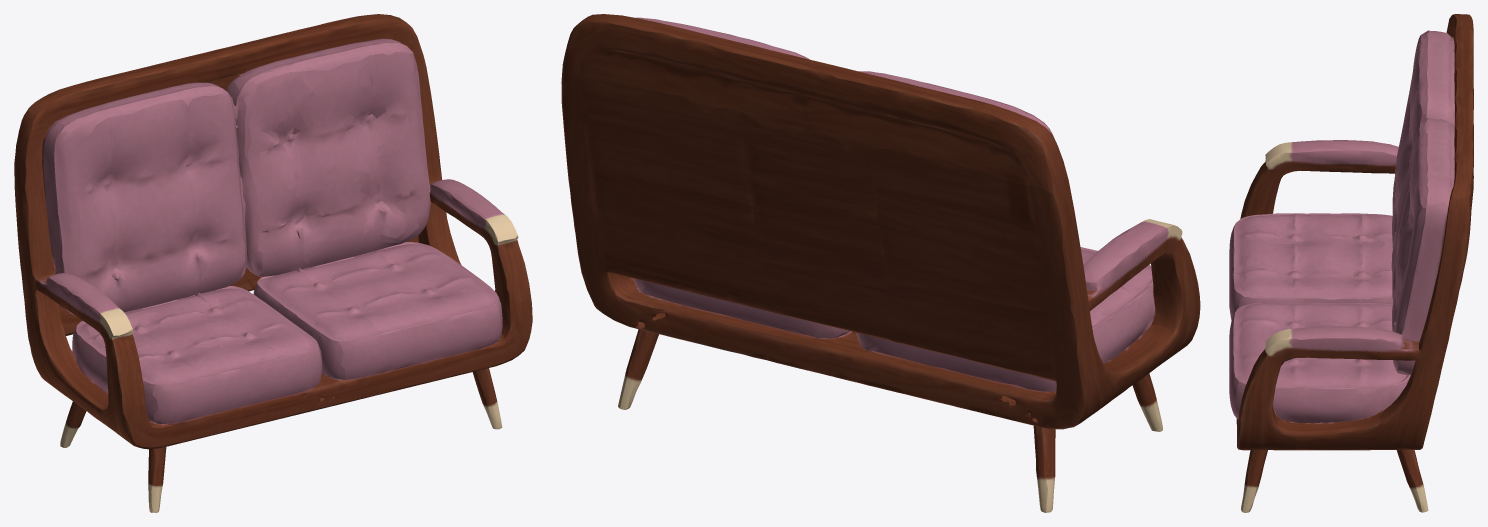
Rendered from carriage-seat.glb.
3 renders of one model, left to right at view 1: azimuth 30°, elevation 25°; view 2: azimuth 150°, elevation 25°; view 3: azimuth 270°, elevation 25°, orthographic. The views are drawn at different scales.
Visible parts, largest first — view 1: world; view 2: world; view 3: world.
Boxes of the visible parts, x1,y1,x2,y2 form: world: (14, 14, 532, 512); world: (561, 14, 1200, 512); world: (1229, 14, 1473, 512).
Size of the model in its own units: 1.5 by 1.17 by 0.7782.
1 material, 1 textured.
